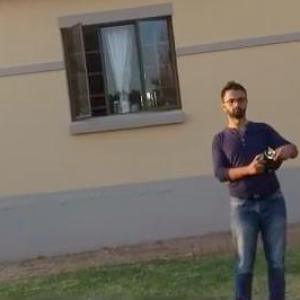follow: (205, 72, 300, 299)
